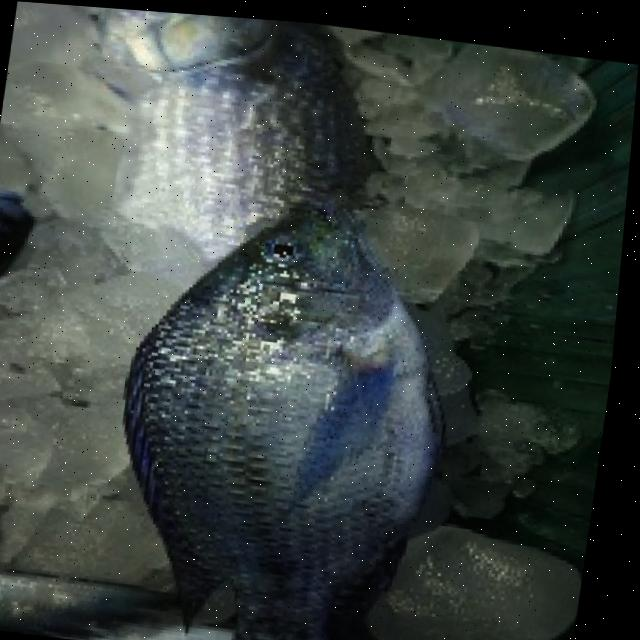Fresh: (139, 193, 442, 640)
